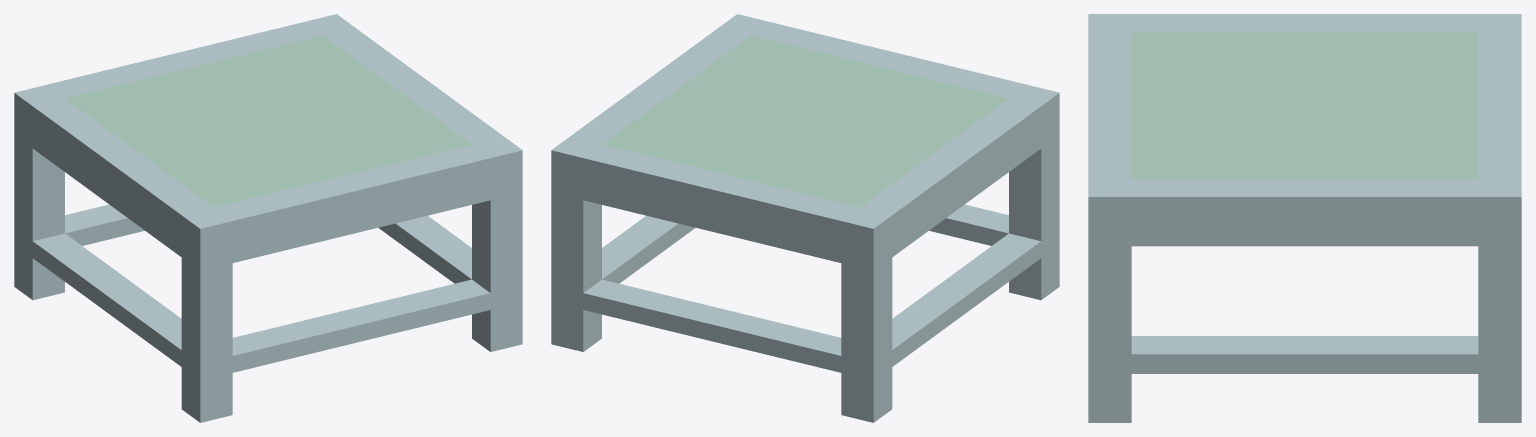
Rendered from tableCoffeeGlassSquare.fbx.
3 renders of one model, left to right at view 1: azimuth 30°, elevation 25°; view 2: azimuth 150°, elevation 25°; view 3: azimuth 270°, elevation 25°, orthographic. The views are drawn at different scales.
Visible parts, largest first — view 1: tableCoffeeGlassSquare; view 2: tableCoffeeGlassSquare; view 3: tableCoffeeGlassSquare.
Boxes of the visible parts, x1,y1,x2,y2 form: tableCoffeeGlassSquare: (14,14,522,422); tableCoffeeGlassSquare: (551,14,1059,422); tableCoffeeGlassSquare: (1088,14,1521,422).
Bounding box in the file's own units: 4 × 2.3 × 4.
